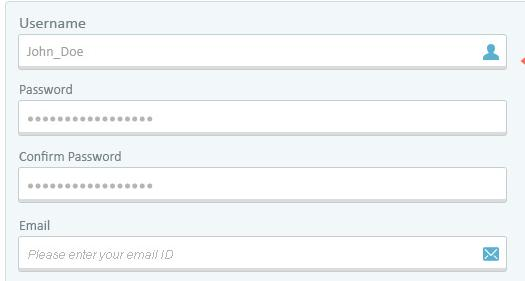field: (16, 165, 507, 204), (13, 234, 508, 272), (17, 99, 508, 137), (16, 33, 509, 70)
field_with_label: (14, 16, 512, 74), (13, 83, 510, 139), (9, 220, 510, 275), (11, 152, 511, 207)
